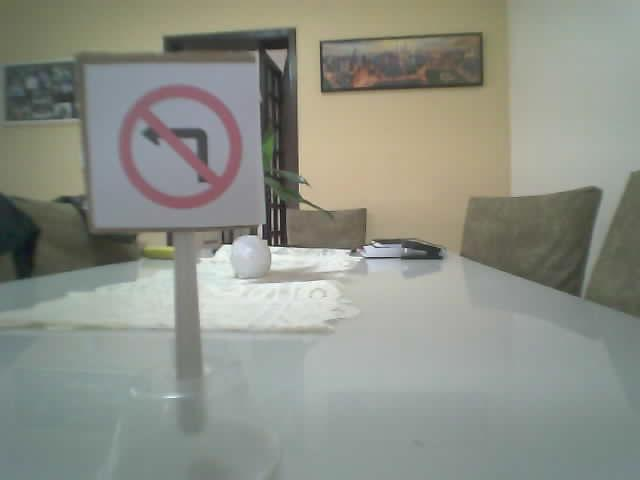R-4a_proibido-esquerda: (118, 84, 242, 209)
